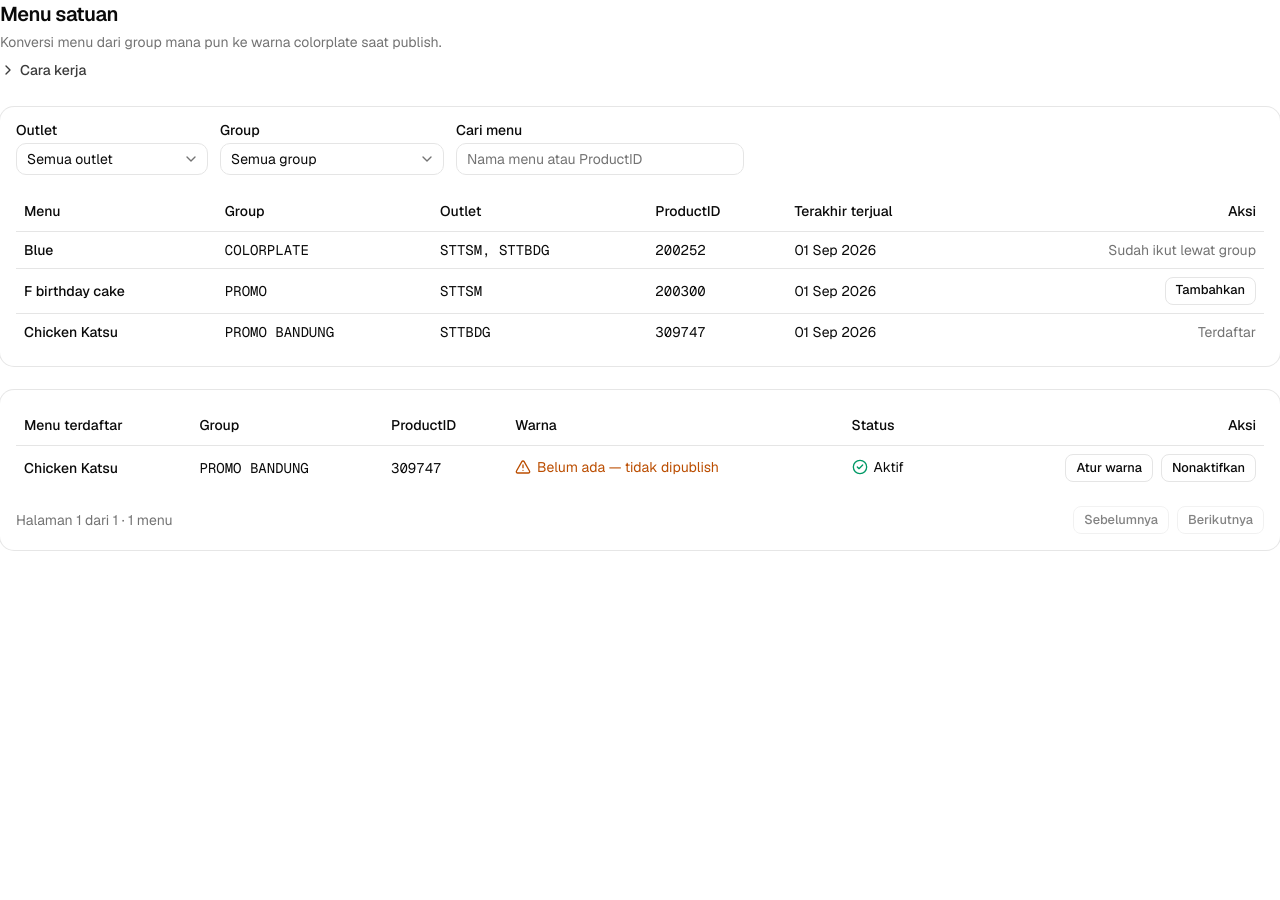
ProductMenusView — mapping per menu › menambah menu dengan mengirim product_id saja, lalu membuka dialog warnanya
Click the button "Tambahkan" at coordinates (1210, 290), box x1=1165 y1=276 x2=1256 y2=304
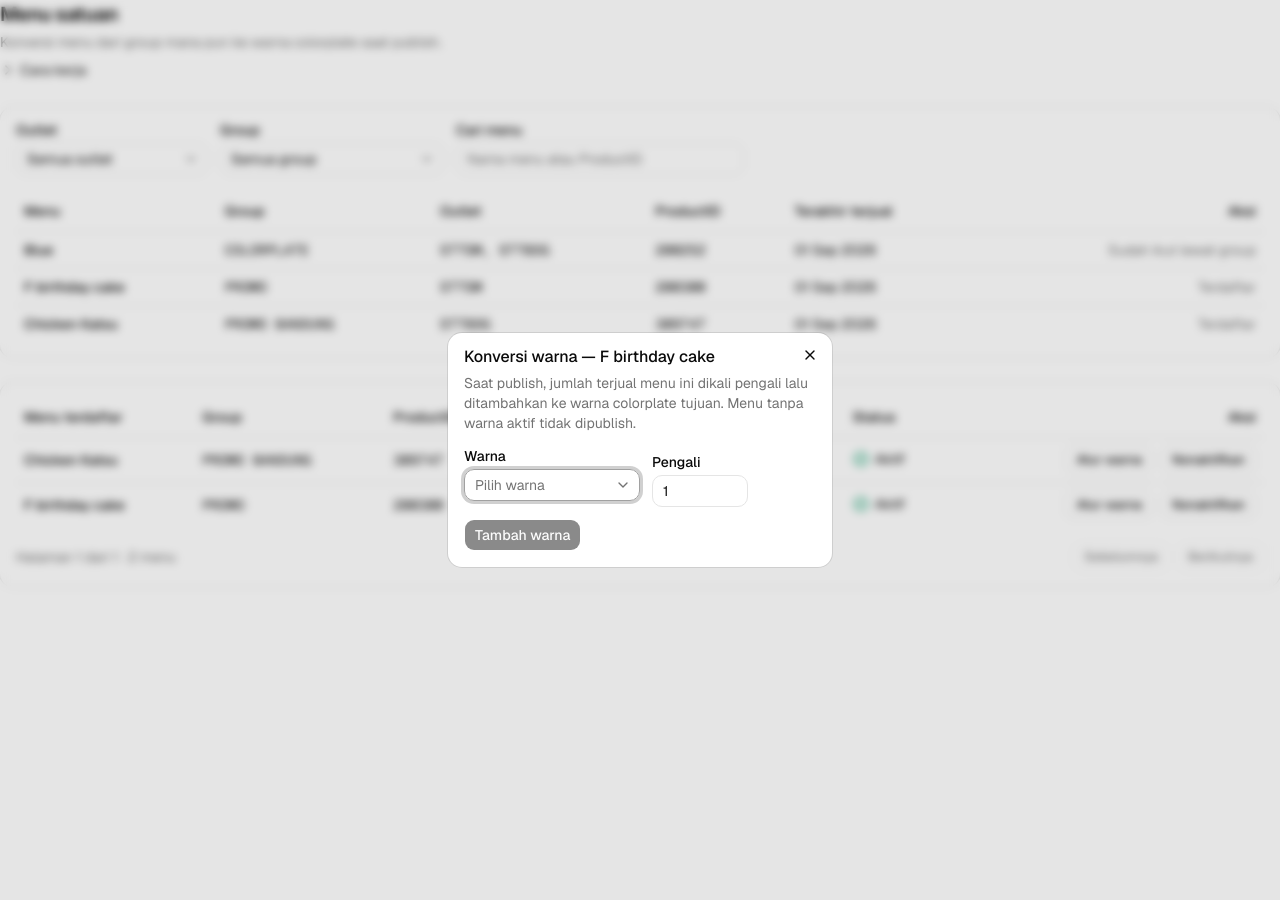
Result: the dialog is shown at x1=448 y1=333 x2=832 y2=567
Result: the text "Terdaftar" is shown at x1=1198 y1=278 x2=1256 y2=296
